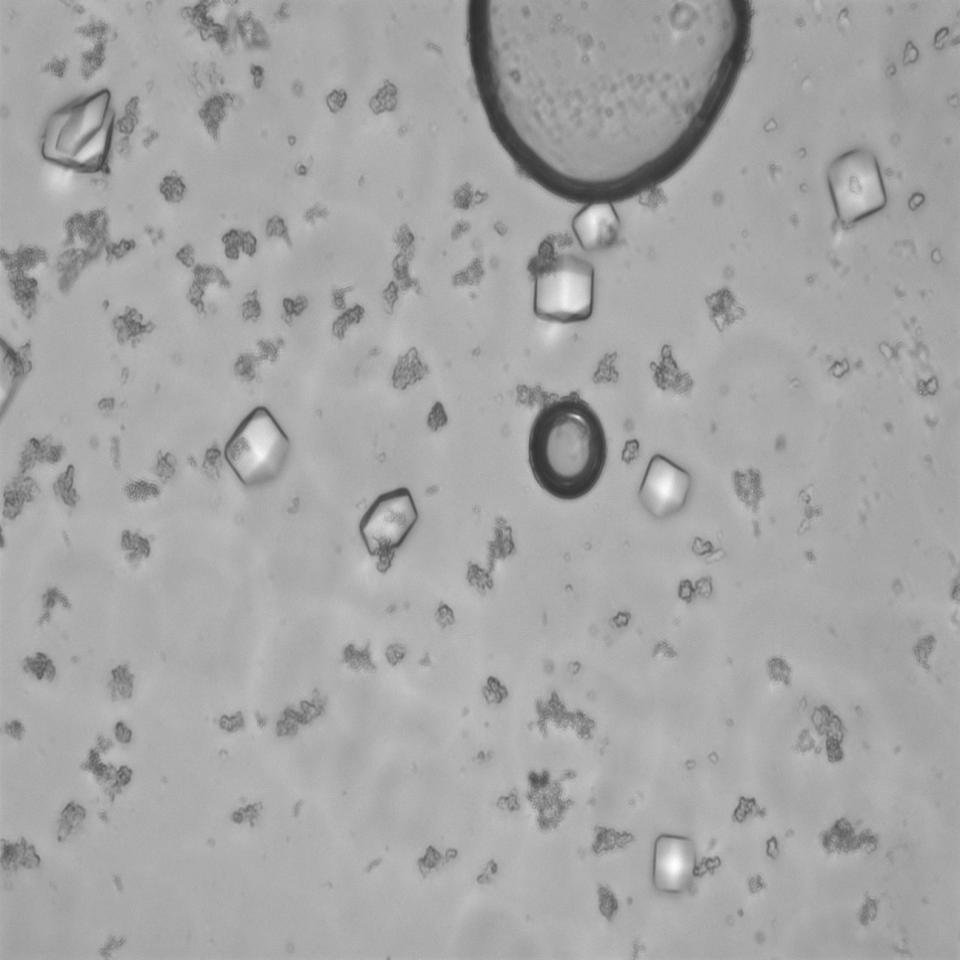crystal: (520, 396, 611, 505), (42, 89, 113, 173), (224, 405, 288, 486), (826, 139, 886, 225), (532, 244, 594, 322), (358, 487, 420, 561), (639, 447, 694, 526), (0, 334, 28, 430), (651, 833, 695, 893), (572, 201, 621, 250)
